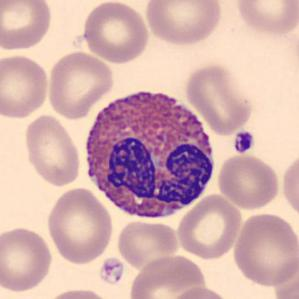Eosinophil: (76, 78, 222, 228)
Platelets: (98, 257, 125, 285), (232, 129, 256, 155)
RBC: (44, 186, 115, 265), (183, 61, 255, 136), (231, 211, 298, 288), (45, 49, 114, 120), (175, 192, 244, 260), (22, 113, 83, 188), (79, 0, 150, 64), (216, 152, 282, 211), (126, 252, 208, 299), (0, 224, 55, 294), (143, 0, 224, 47), (115, 218, 181, 270), (0, 51, 50, 119), (0, 0, 54, 53), (233, 0, 298, 38), (280, 149, 299, 223), (270, 254, 299, 299), (43, 286, 116, 299), (167, 285, 233, 299)
